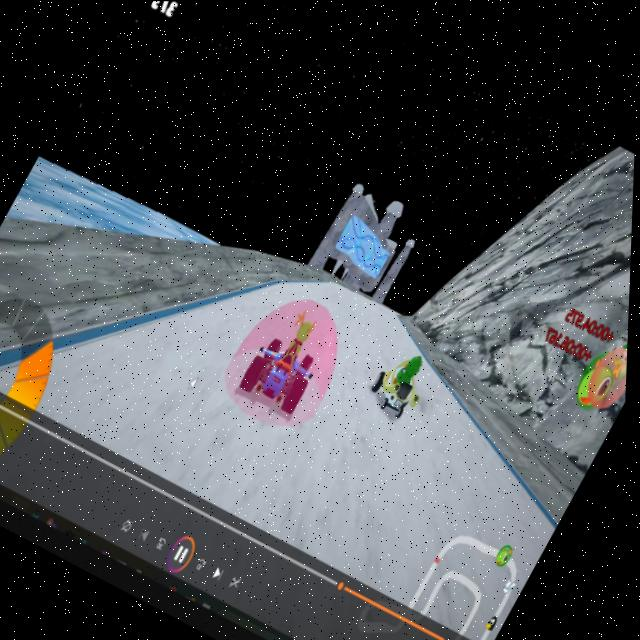enemy_kart: (359, 342, 443, 433)
off_track: (20, 13, 340, 302)
track: (309, 269, 406, 341)
